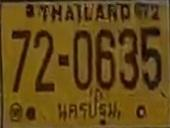0: (72, 29, 92, 89)
2: (34, 29, 56, 92)
3: (118, 28, 138, 89)
5: (140, 26, 161, 89)
6: (95, 28, 115, 88)
7: (11, 29, 32, 91)
NPT: (54, 98, 121, 127)
